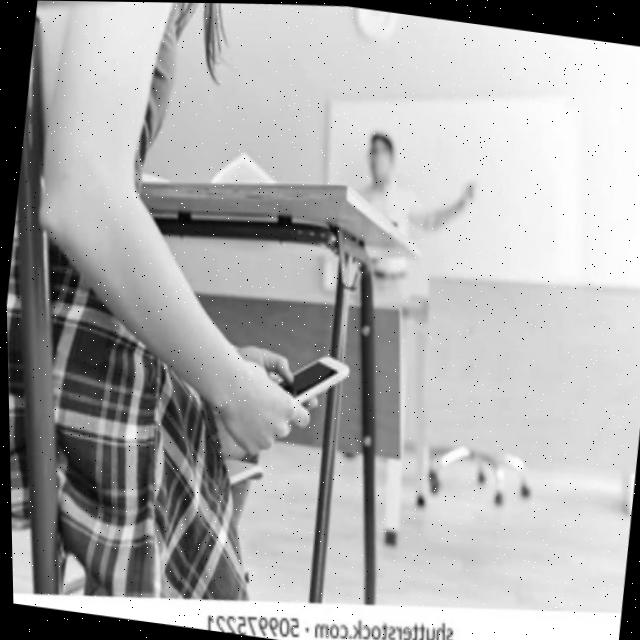phone: (266, 342, 356, 413)
